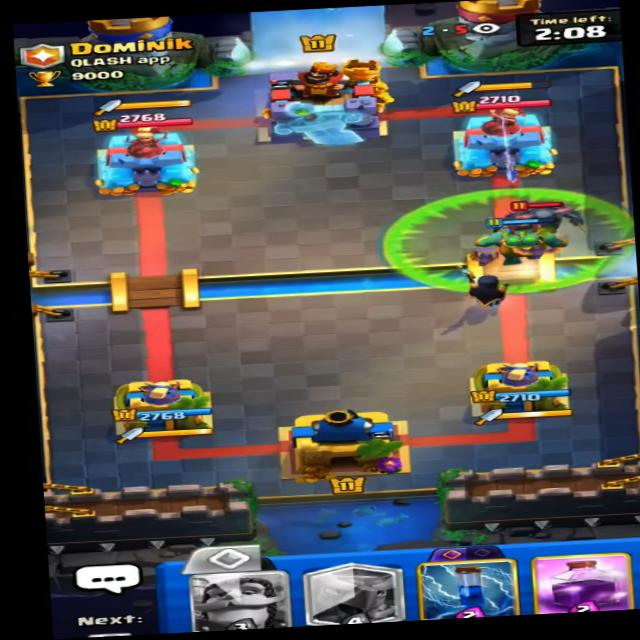Pekka: (492, 185, 593, 238)
